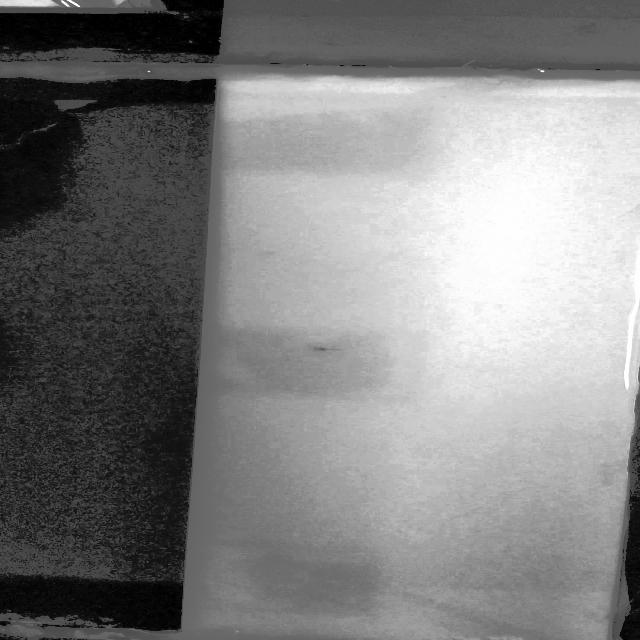shrimp: (304, 340, 336, 358)
